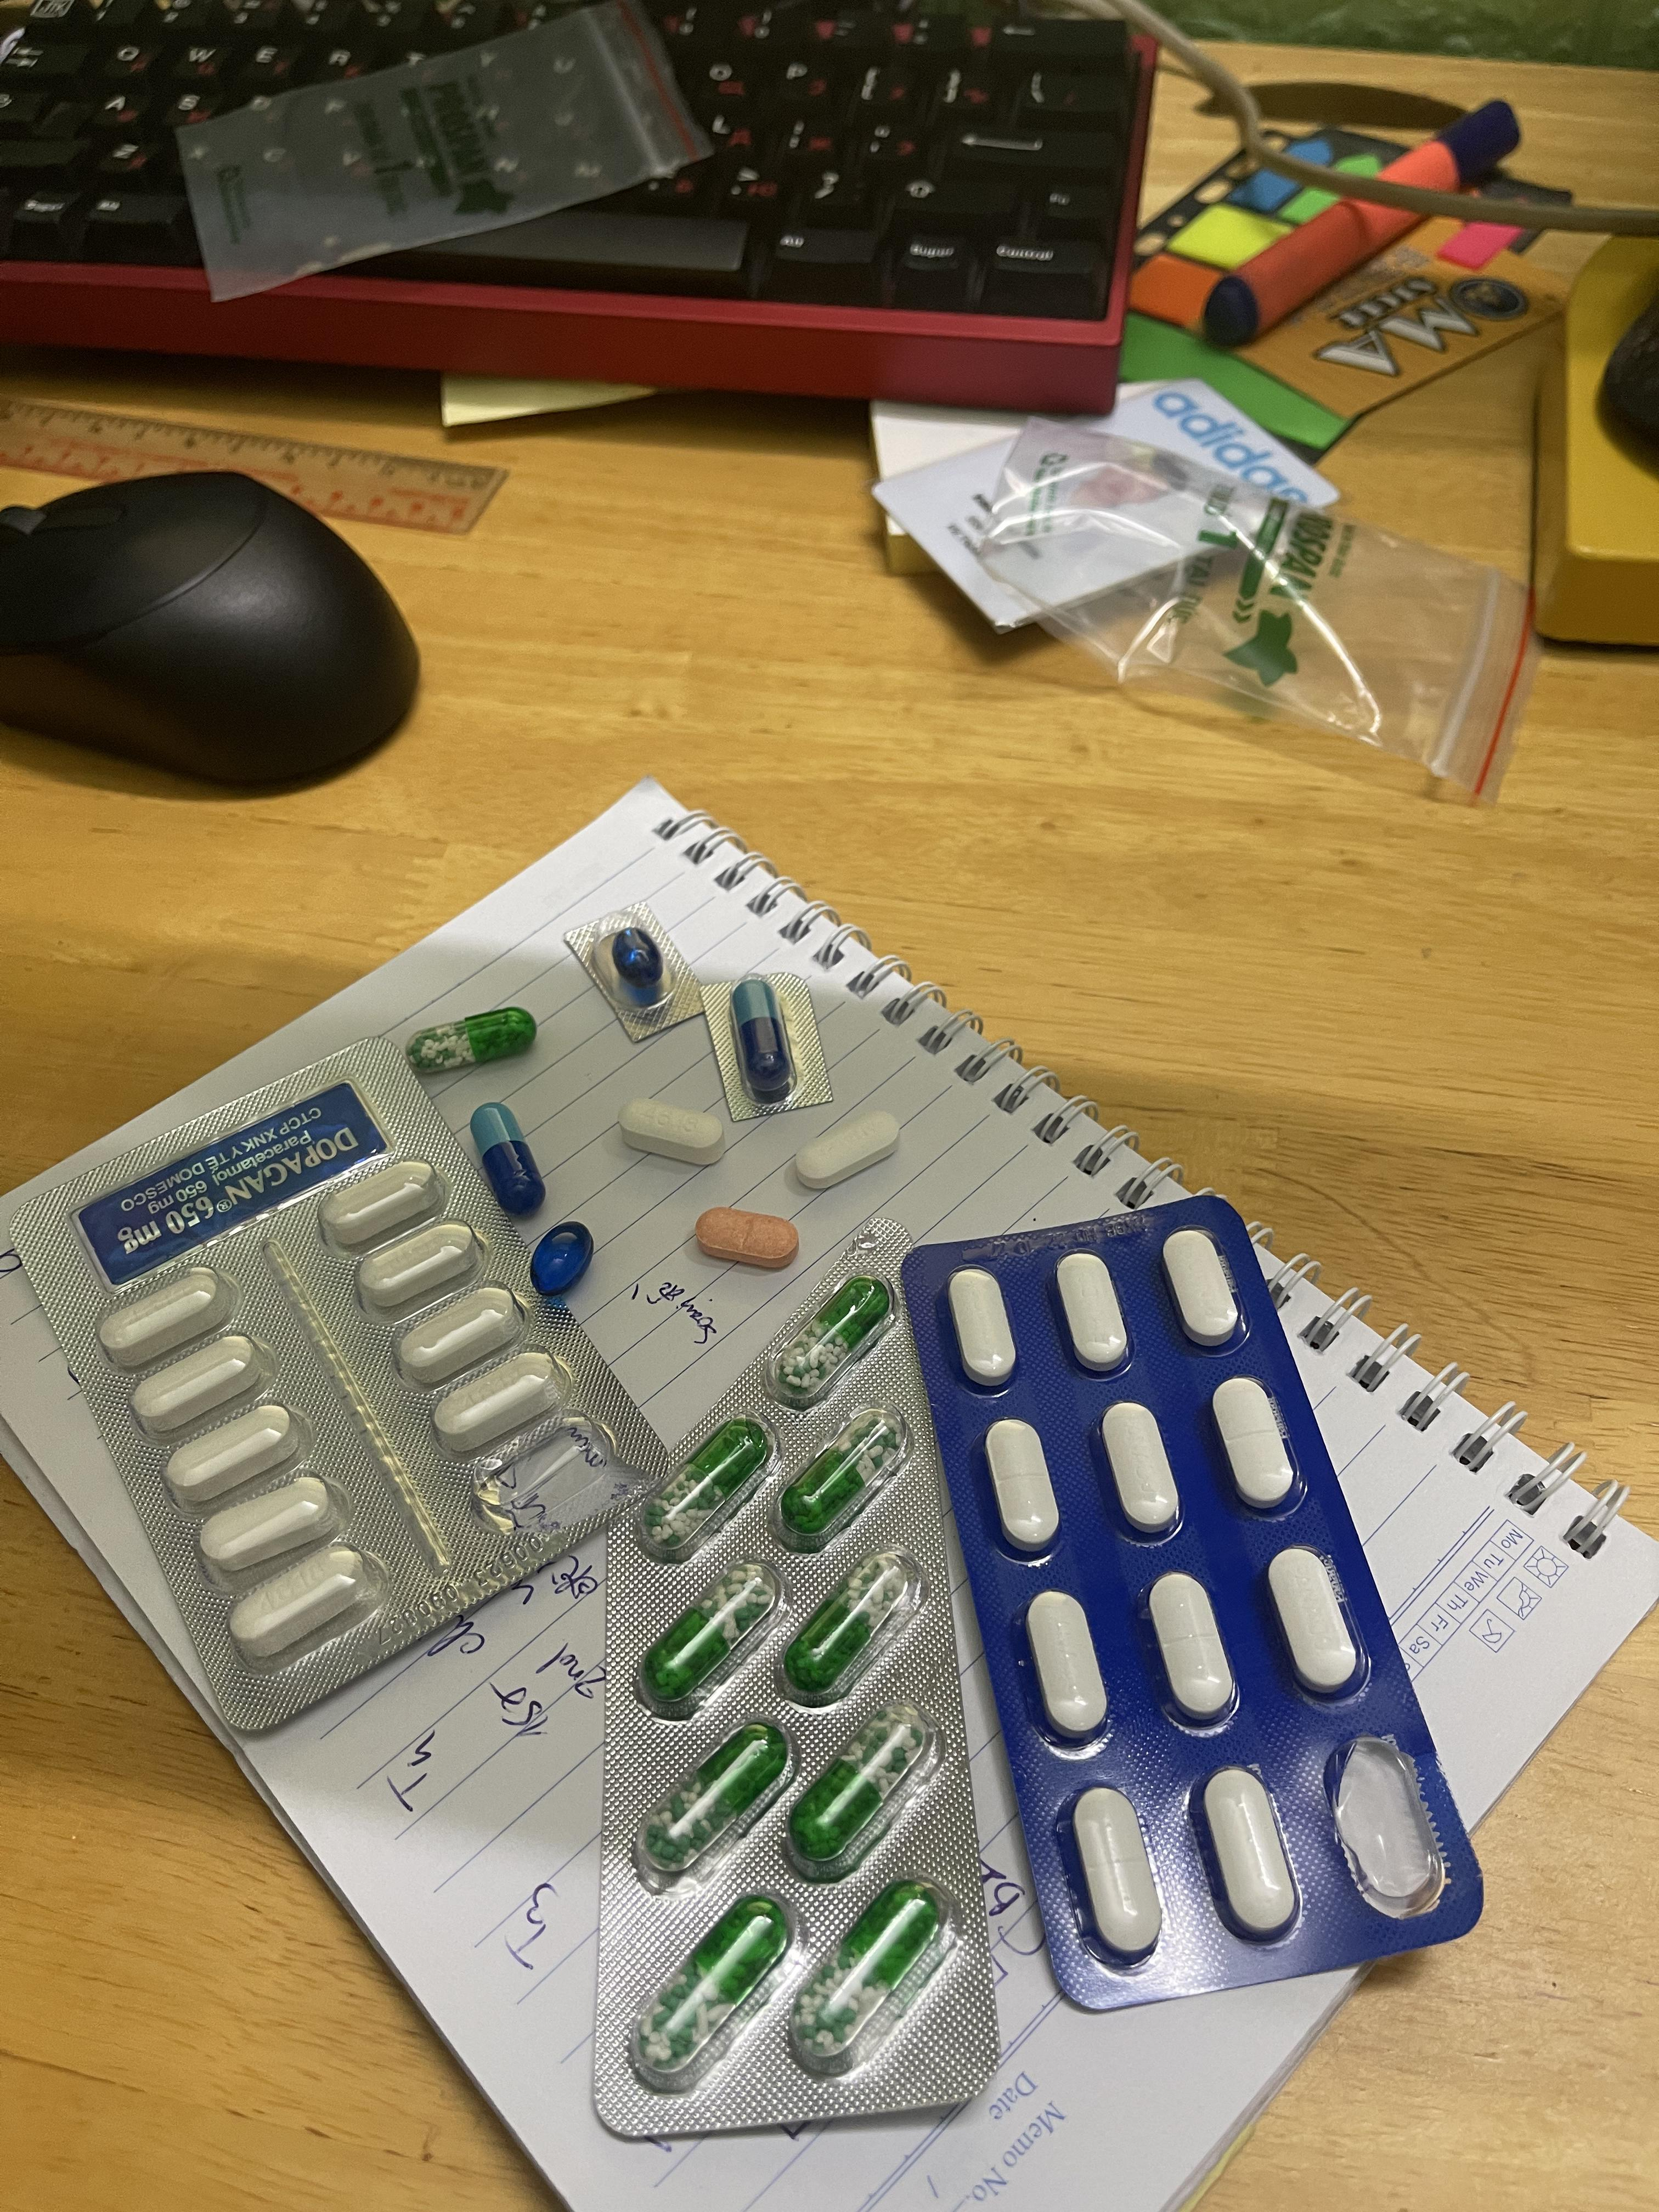Lincomyxin_500mg: (532, 1219, 592, 1301), (610, 930, 667, 1000)
Loratadine_10mg: (695, 1209, 798, 1268)
Paracetamol_350mg: (1201, 1768, 1300, 1939), (1070, 1787, 1164, 1958), (1265, 1547, 1361, 1700), (1023, 1587, 1114, 1738), (1147, 1573, 1237, 1721), (1211, 1376, 1297, 1505), (1101, 1400, 1183, 1531), (1159, 1224, 1243, 1348), (986, 1418, 1061, 1552), (948, 1264, 1025, 1385), (795, 1104, 901, 1188), (1060, 1252, 1131, 1371)
Paracetamol_500mg: (227, 1552, 376, 1665), (157, 1397, 300, 1503), (195, 1475, 336, 1575), (125, 1331, 263, 1428), (94, 1264, 230, 1362), (429, 1355, 563, 1453), (315, 1157, 439, 1247), (396, 1289, 519, 1378), (357, 1219, 483, 1305), (619, 1097, 727, 1160)
Paracetamol_650mg: (636, 1895, 788, 2076), (795, 1885, 941, 2067), (788, 1707, 929, 1874), (641, 1721, 789, 1872), (641, 1561, 782, 1705), (784, 1550, 913, 1700), (636, 1416, 772, 1555), (777, 1409, 904, 1548), (772, 1275, 887, 1402), (408, 1003, 537, 1078)
pill: (469, 1101, 544, 1219), (732, 977, 793, 1087)
